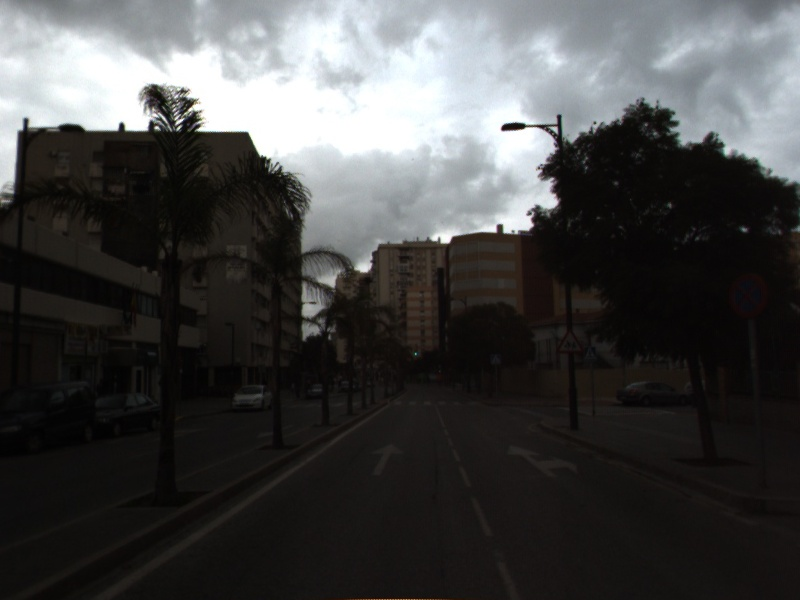STRAIGHT: (369, 442, 407, 477)
STRAIGHT_RIGHT: (505, 442, 579, 478)
